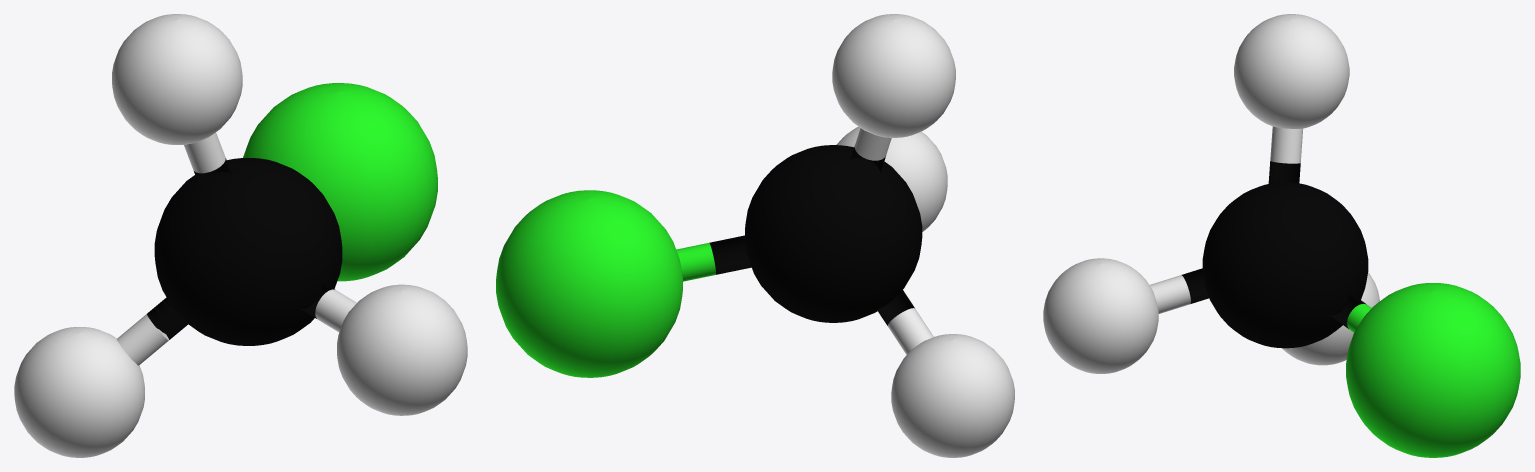
The model's file is FlouromethaneV1.glb.
The picture shows the model from 3 angles, left to right: view 1: azimuth 30°, elevation 25°; view 2: azimuth 150°, elevation 25°; view 3: azimuth 270°, elevation 25°; orthographic projection. The views are drawn at different scales.
Visible parts, largest first — view 1: Carbon_ball.001, Fluorine_ball.001, Hydrogen_ball.007, Hydrogen_ball.010, Hydrogen_ball.003, Hydrogen_sticks_cylinder.033, Carbon_sticks_cup; view 2: Fluorine_ball.001, Carbon_ball.001, Hydrogen_ball.003, Hydrogen_ball.010, Hydrogen_ball.007, Hydrogen_sticks_cylinder.033, Carbon_sticks_cup, Fluorine_sticks_cylinder.001; view 3: Fluorine_ball.001, Carbon_ball.001, Hydrogen_ball.007, Hydrogen_ball.010, Hydrogen_sticks_cylinder.033, Hydrogen_ball.003, Carbon_sticks_cup.
Boxes of the visible parts, x1,y1,x2,y2 form: Carbon_ball.001: [154, 158, 342, 345]; Fluorine_ball.001: [243, 83, 437, 281]; Hydrogen_ball.007: [337, 284, 467, 415]; Hydrogen_ball.010: [112, 14, 242, 144]; Hydrogen_ball.003: [14, 327, 144, 457]; Hydrogen_sticks_cylinder.033: [117, 132, 356, 365]; Carbon_sticks_cup: [147, 158, 335, 339]; Fluorine_ball.001: [496, 190, 682, 377]; Carbon_ball.001: [745, 145, 922, 322]; Hydrogen_ball.003: [891, 334, 1014, 457]; Hydrogen_ball.010: [832, 14, 955, 137]; Hydrogen_ball.007: [836, 126, 947, 231]; Hydrogen_sticks_cylinder.033: [854, 128, 933, 354]; Carbon_sticks_cup: [709, 146, 914, 325]; Fluorine_sticks_cylinder.001: [676, 243, 715, 281]; Fluorine_ball.001: [1346, 283, 1520, 457]; Carbon_ball.001: [1202, 182, 1368, 348]; Hydrogen_ball.007: [1043, 258, 1158, 373]; Hydrogen_ball.010: [1234, 14, 1349, 128]; Hydrogen_sticks_cylinder.033: [1149, 126, 1302, 313]; Hydrogen_ball.003: [1282, 272, 1379, 365]; Carbon_sticks_cup: [1182, 161, 1366, 328].
Size of the model in its own units: 2.61 by 2.29 by 2.64.
